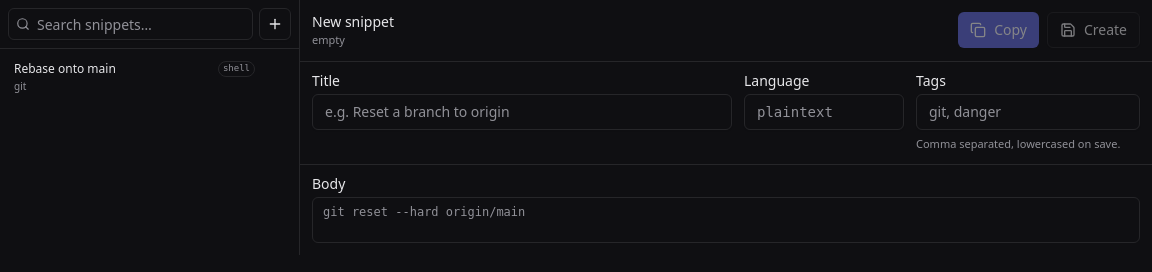
Test: SnippetsPage search › explains a match the row's own text does not
Expected: the text "Rebase onto main" is shown, [14,60,116,77]
Type "origin" into the field labelled "Search snippets". click: (130, 24)
box: [8,8,253,40]
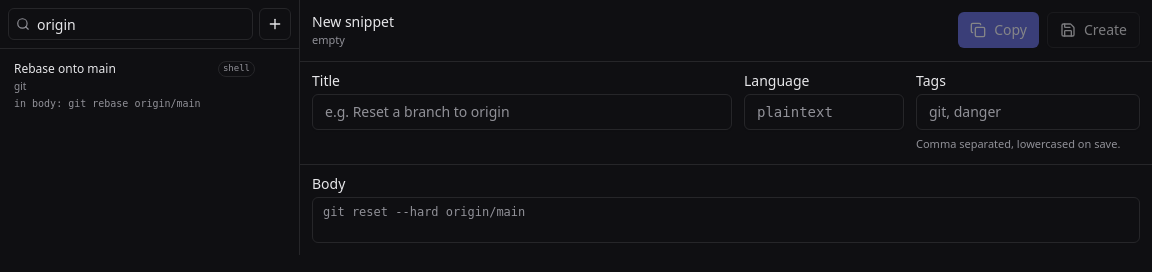
Expected: the text "in body: git rebase origin/main" is shown, [14,98,201,109]
